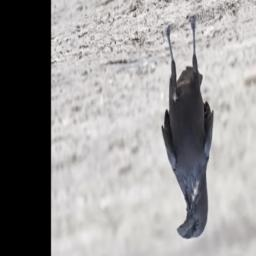Crow: (152, 9, 223, 248)
